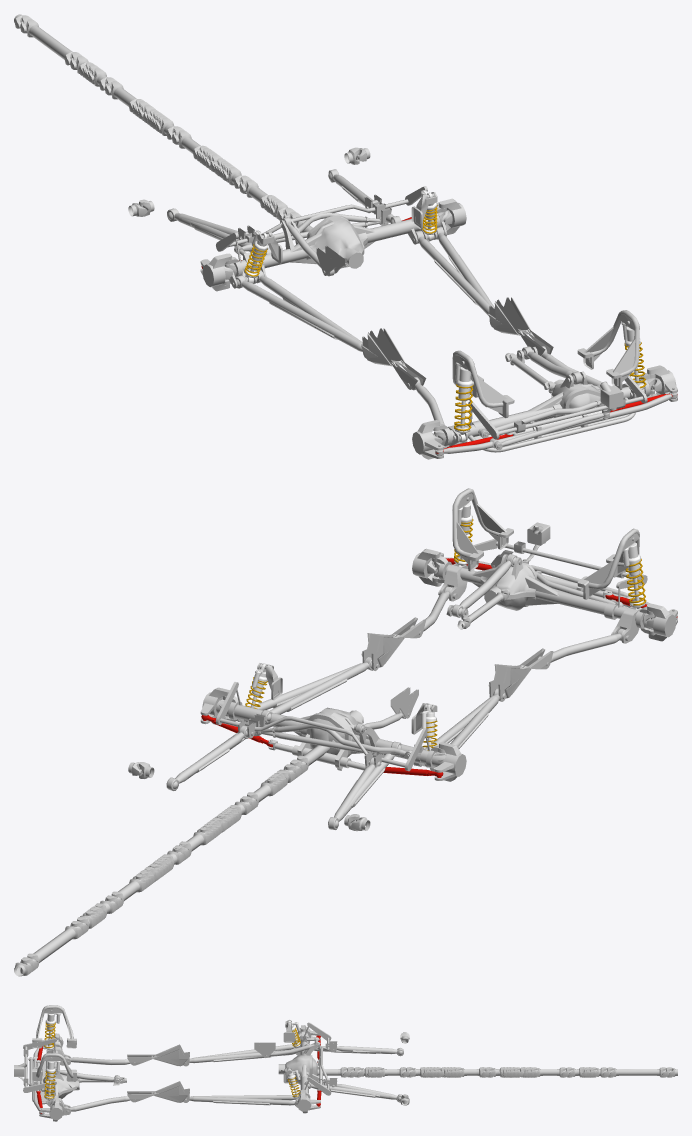
The model's file is G_pickup_suspension_goliath 24.dae.
3 renders of one model, top to bottom at view 1: azimuth 30°, elevation 25°; view 2: azimuth 150°, elevation 25°; view 3: azimuth 270°, elevation 25°, orthographic. The views are drawn at different scales.
Parts seen in each view (by area): view 1: G_pickup_goliath_shocktop_F_4link_offroad, G_pickup_goliath_axle_R, G_pickup_goliath_lowerlink_R_4link_offroad, G_pickup_goliath_lowerlink_R_4link_offroad_RS, G_pickup_goliath_axle_F, G_pickup_goliath_coilover_F_4link_offroad, G_pickup_goliath_hydro_steering_frame, G_pickup_goliath_hub_F_4link, G_pickup_goliath_hub_R_4link, G_pickup_goliath_steeringlink_F_4link, G_pickup_goliath_coilover_R_4link_offroad, G_pickup_goliath_swaybar_F_SFA_offroad (+11 smaller); view 2: G_pickup_goliath_shocktop_F_4link_offroad, G_pickup_goliath_axle_F, G_pickup_goliath_axle_R, G_pickup_goliath_lowerlink_R_4link_offroad_RS, G_pickup_goliath_axlemounts_F_4link, G_pickup_goliath_coilover_F_4link_offroad, G_pickup_goliath_lowerlink_RR_6x6_4link_offroad_RS, G_pickup_goliath_swaybar_R_offroad, G_pickup_goliath_lowerlink_R_4link_offroad, G_pickup_goliath_hub_F_4link, G_pickup_goliath_hub_R_4link, G_pickup_goliath_lowerlink_F_4link (+8 smaller); view 3: G_pickup_goliath_shocktop_F_4link_offroad, G_pickup_goliath_lowerlink_R_4link_offroad, G_pickup_goliath_lowerlink_R_4link_offroad_RS, G_pickup_goliath_coilover_F_4link_offroad, G_pickup_goliath_axle_R, G_pickup_goliath_lowerlink_F_4link, G_pickup_goliath_lowerlink_RR_6x6_4link_offroad_RS_long, G_pickup_goliath_lowerlink_RR_6x6_4link_offroad_RS, G_pickup_goliath_linkguards_R_longbed, G_pickup_goliath_lowermounts_F_4link, G_pickup_goliath_swaybar_R_offroad, G_pickup_goliath_axle_F (+14 smaller).
Part boxes in pixels (box(x1,y1,x2,y2)): G_pickup_goliath_shocktop_F_4link_offroad: box(452, 310, 639, 418); G_pickup_goliath_axle_R: box(223, 210, 449, 273); G_pickup_goliath_lowerlink_R_4link_offroad: box(235, 226, 494, 351); G_pickup_goliath_lowerlink_R_4link_offroad_RS: box(256, 230, 489, 351); G_pickup_goliath_axle_F: box(450, 379, 644, 442); G_pickup_goliath_coilover_F_4link_offroad: box(454, 322, 646, 442); G_pickup_goliath_hydro_steering_frame: box(468, 397, 635, 452); G_pickup_goliath_hub_F_4link: box(412, 365, 677, 459); G_pickup_goliath_hub_R_4link: box(200, 198, 466, 291); G_pickup_goliath_steeringlink_F_4link: box(435, 387, 677, 456); G_pickup_goliath_coilover_R_4link_offroad: box(244, 190, 437, 283); G_pickup_goliath_swaybar_F_SFA_offroad: box(468, 375, 647, 439); G_pickup_goliath_shocktop_F_4link_offroad: box(452, 488, 639, 599); G_pickup_goliath_axle_F: box(445, 562, 638, 621); G_pickup_goliath_axle_R: box(216, 700, 446, 766); G_pickup_goliath_lowerlink_R_4link_offroad_RS: box(269, 657, 505, 766); G_pickup_goliath_axlemounts_F_4link: box(438, 554, 642, 643); G_pickup_goliath_coilover_F_4link_offroad: box(454, 502, 646, 609); G_pickup_goliath_lowerlink_RR_6x6_4link_offroad_RS: box(167, 725, 380, 829); G_pickup_goliath_swaybar_R_offroad: box(215, 682, 427, 771); G_pickup_goliath_lowerlink_R_4link_offroad: box(237, 657, 499, 754); G_pickup_goliath_hub_F_4link: box(412, 548, 677, 641); G_pickup_goliath_hub_R_4link: box(200, 687, 466, 781); G_pickup_goliath_lowerlink_F_4link: box(409, 586, 625, 662); G_pickup_goliath_shocktop_F_4link_offroad: box(32, 1005, 76, 1081); G_pickup_goliath_lowerlink_R_4link_offroad: box(189, 1044, 298, 1105); G_pickup_goliath_lowerlink_R_4link_offroad_RS: box(185, 1047, 299, 1100); G_pickup_goliath_coilover_F_4link_offroad: box(44, 1013, 60, 1104); G_pickup_goliath_axle_R: box(278, 1033, 317, 1096); G_pickup_goliath_lowerlink_F_4link: box(64, 1056, 130, 1111); G_pickup_goliath_lowerlink_RR_6x6_4link_offroad_RS_long: box(304, 1043, 403, 1099); G_pickup_goliath_lowerlink_RR_6x6_4link_offroad_RS: box(332, 1043, 403, 1102); G_pickup_goliath_linkguards_R_longbed: box(151, 1044, 179, 1102); G_pickup_goliath_lowermounts_F_4link: box(127, 1054, 155, 1102); G_pickup_goliath_swaybar_R_offroad: box(307, 1022, 331, 1095); G_pickup_goliath_axle_F: box(43, 1046, 79, 1100).
Bounding box in the file's own units: 2.04 × 7.86 × 0.7921.
